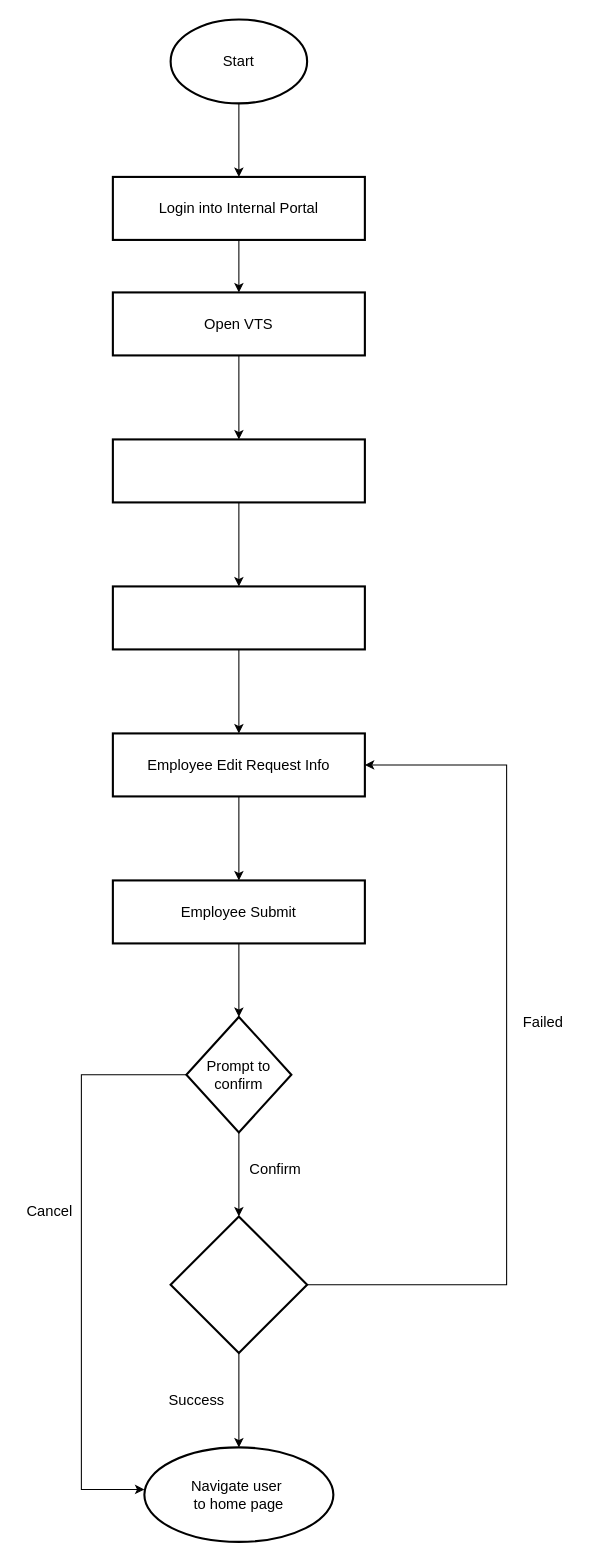
Image size: 592x1560. Some labels were removed from this diagram. The shapes that lost their labels are listed below. From the top down, each one's centre as x and y in pixels, then its label:
At (238,470): "Select a vacation time request to edit".
At (238,617): "Display Edit Page".
At (238,1284): "Validate Update Info".
